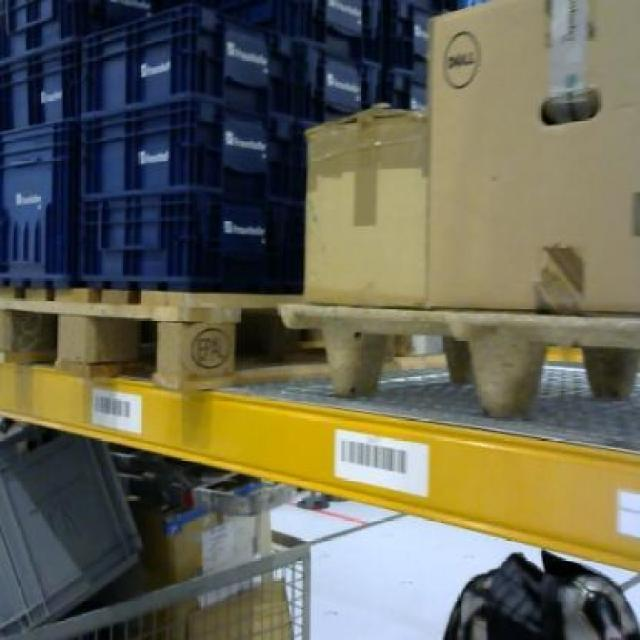box: (430, 6, 639, 314), (298, 105, 427, 302)
